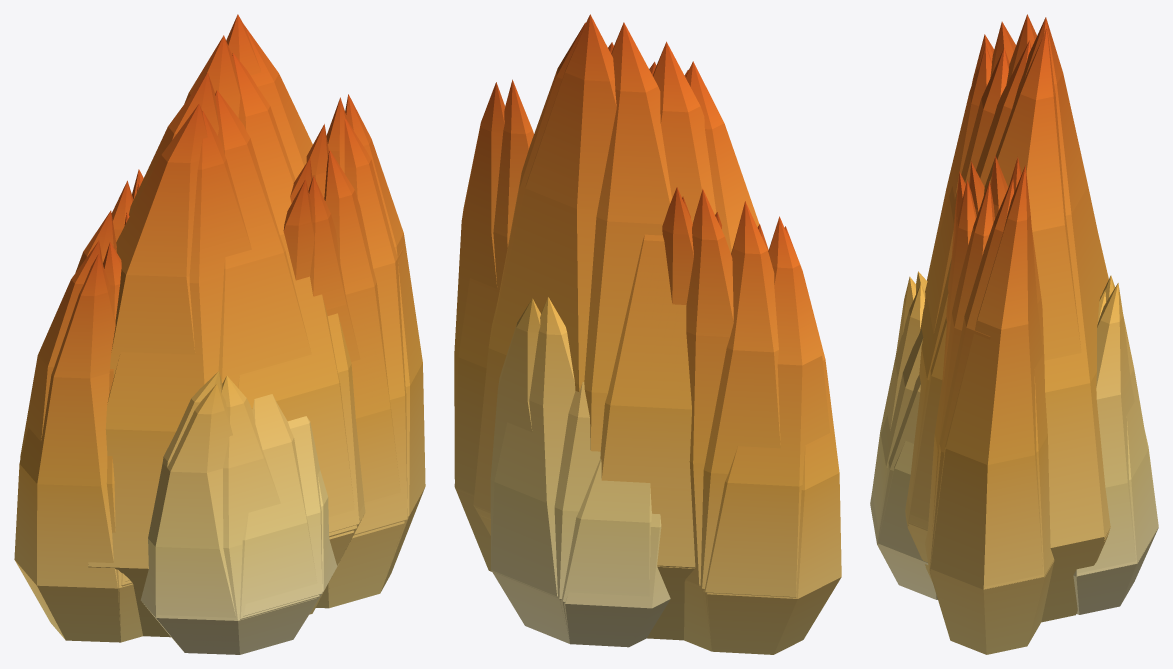
The model's file is smelter_flame.glb.
3 views of the same model, side by side, from view 1: azimuth 30°, elevation 25°; view 2: azimuth 150°, elevation 25°; view 3: azimuth 270°, elevation 25° (orthographic). The views are drawn at different scales.
Parts seen in each view (by area): view 1: flame_03, flame_06, flame_05, flame_04, flame_02, flame_07, flame_00, flame_01; view 2: flame_02, flame_03, flame_04, flame_01, flame_05, flame_00, flame_06, flame_07; view 3: flame_04, flame_02, flame_01, flame_05, flame_06, flame_00, flame_07, flame_03.
Boxes of the visible parts, x1,y1,x2,y2 form: flame_03: (14,35,407,642); flame_06: (88,111,328,637); flame_05: (110,97,348,654); flame_04: (103,72,425,649); flame_02: (20,14,404,608); flame_07: (132,90,353,634); flame_00: (111,53,357,604); flame_01: (75,25,374,608); flame_02: (473,14,830,648); flame_03: (475,22,841,654); flame_04: (454,41,768,534); flame_01: (496,22,780,651); flame_05: (454,61,759,568); flame_00: (560,42,733,641); flame_06: (457,69,694,640); flame_07: (493,61,693,643); flame_04: (895,21,1109,654); flame_02: (909,17,1110,627); flame_01: (905,28,1081,576); flame_05: (873,34,1136,634); flame_06: (870,45,1158,645); flame_00: (878,40,1158,599); flame_07: (870,48,1158,605); flame_03: (916,14,1110,630).
Bounding box in the file's own units: 0.6956 × 0.9985 × 0.4529.
